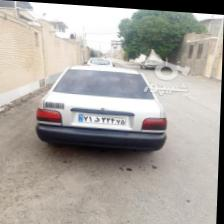plate: (79, 113, 124, 124)
